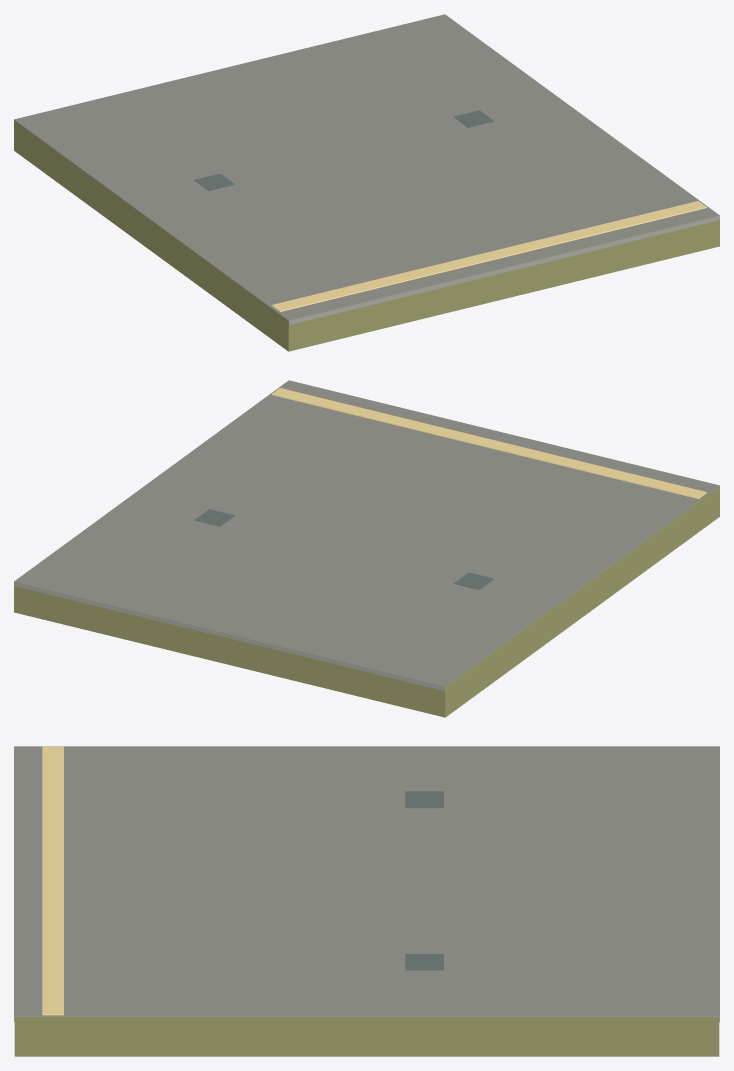
Rendered from SM_KitAnden_F11_v0_LOD0.fbx.
3 renders of one model, top to bottom at view 1: azimuth 30°, elevation 25°; view 2: azimuth 150°, elevation 25°; view 3: azimuth 270°, elevation 25°, orthographic. The views are drawn at different scales.
Visible parts, largest first — view 1: SM_kit_anden_v0_LOD0; view 2: SM_kit_anden_v0_LOD0; view 3: SM_kit_anden_v0_LOD0.
Part boxes in pixels (x1,y1,x2,y2): SM_kit_anden_v0_LOD0: (14, 14, 719, 351); SM_kit_anden_v0_LOD0: (14, 380, 719, 717); SM_kit_anden_v0_LOD0: (14, 746, 719, 1056).
Size of the model in its own units: 9.98 by 0.71 by 11.02.
